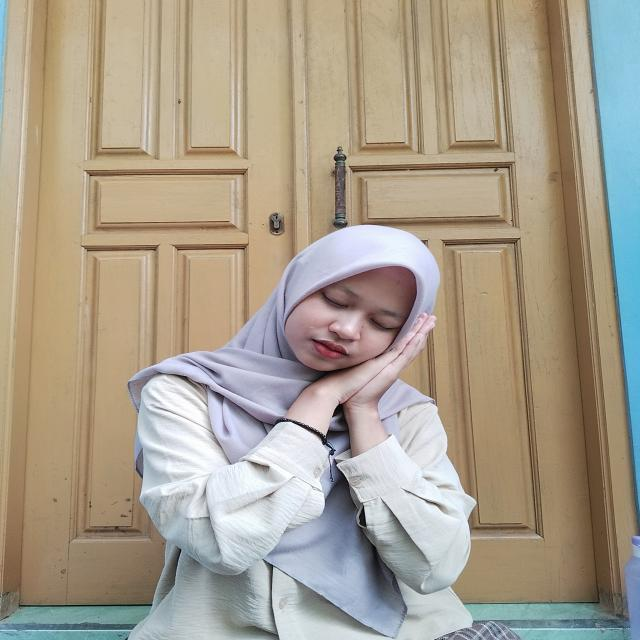tidur: (253, 310, 441, 473)
